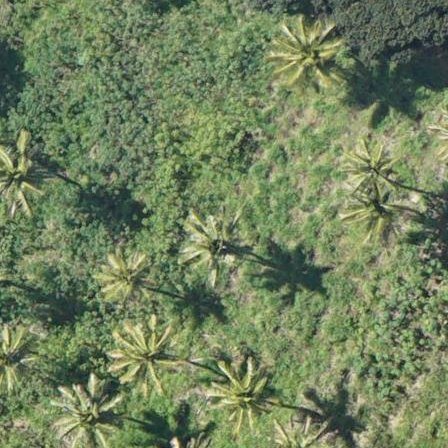palm_tree: (266, 9, 345, 93), (102, 316, 179, 398), (46, 375, 118, 448), (206, 358, 276, 433), (340, 127, 408, 199), (1, 131, 53, 215), (179, 209, 241, 275), (90, 241, 151, 306), (344, 192, 410, 251)
